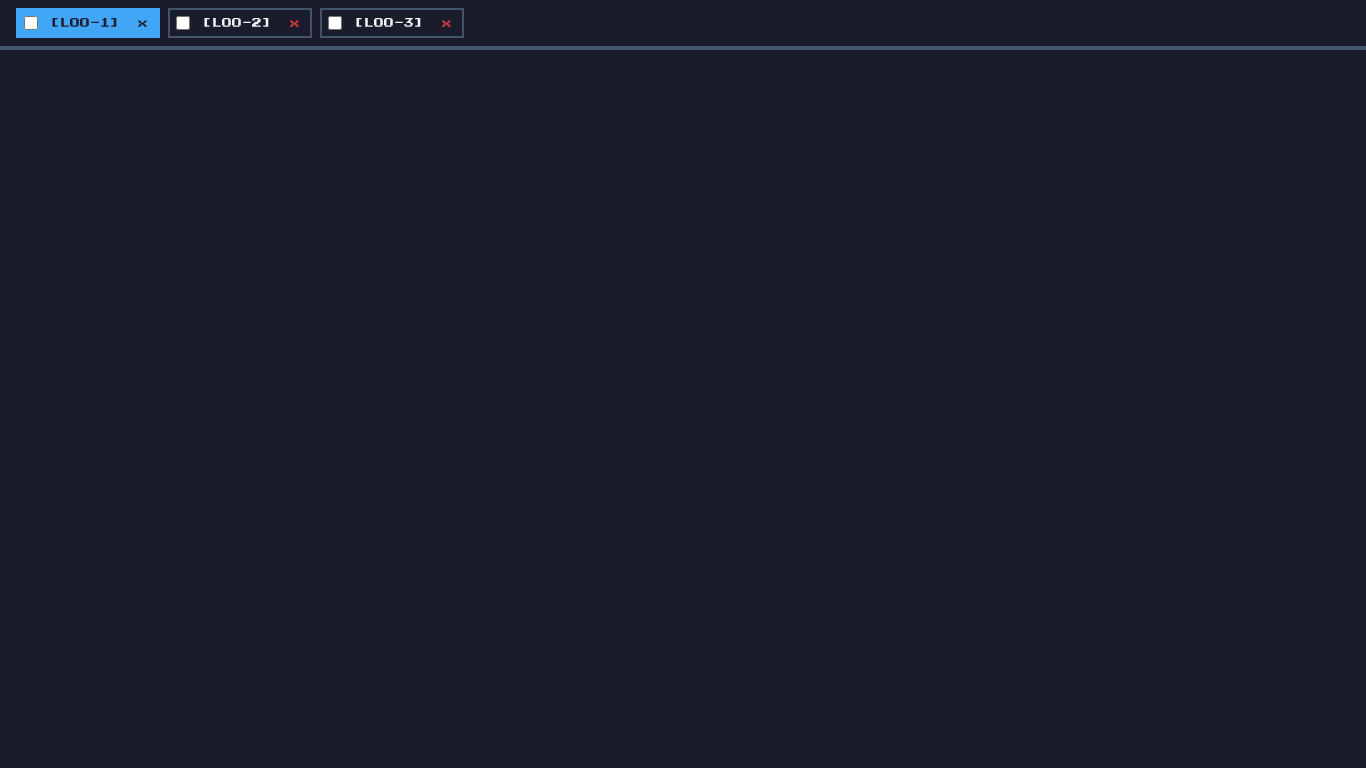
Scenario: IssueTabs › shows confirm dialog when delete button is clicked
Click the button with test id "delete-id-2": click(295, 23) [284, 14, 306, 32]
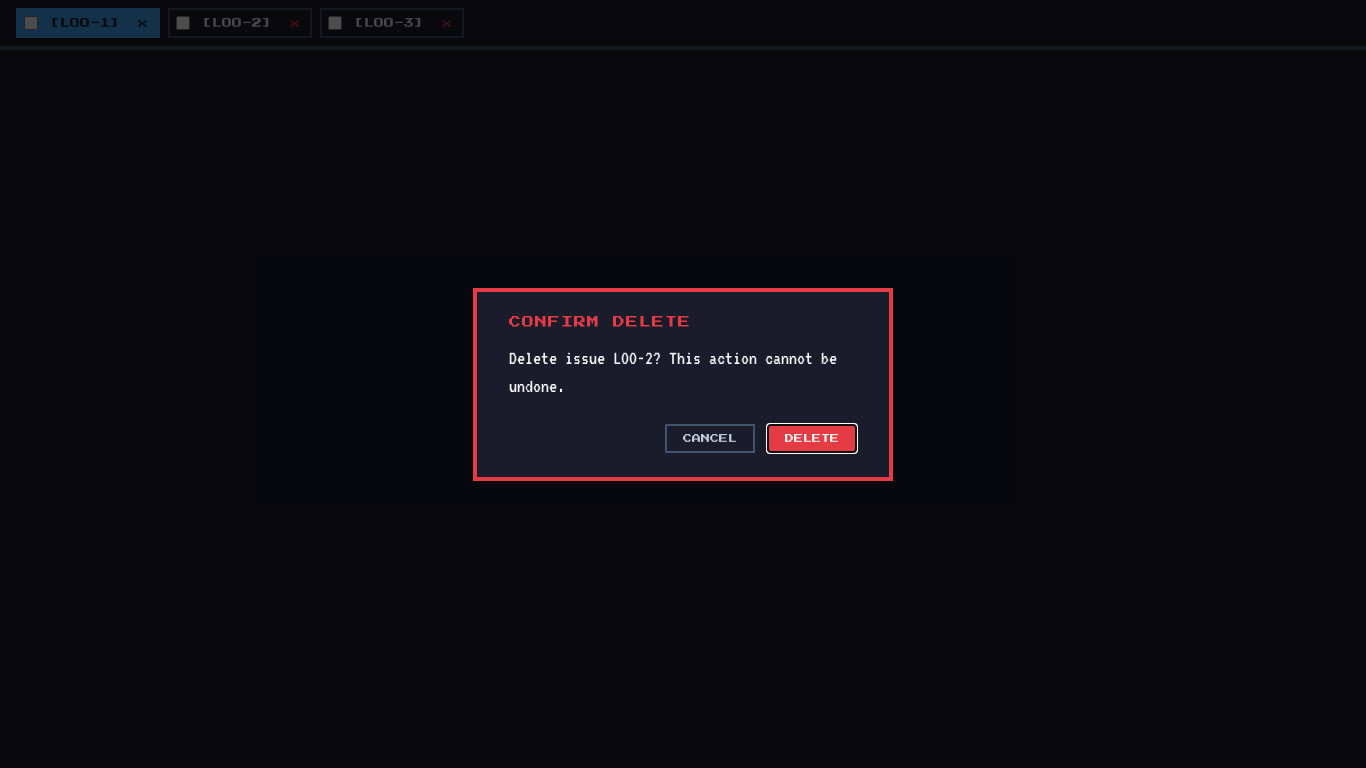
Now the text "CONFIRM DELETE" is shown, box [509, 316, 691, 328]
Now the text "Delete issue LOO-2? This action cannot be undone." is shown, box [509, 344, 857, 400]
